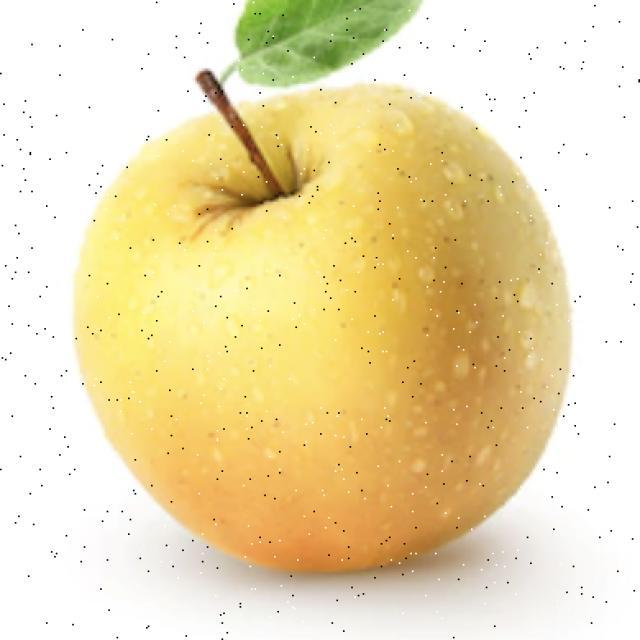Fresh Apple: (108, 85, 572, 580)
